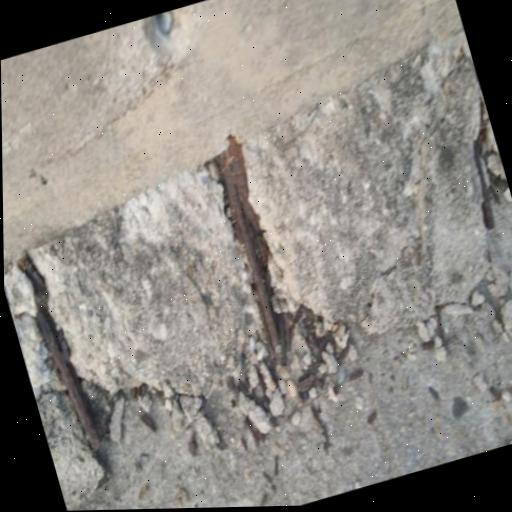exposed_rebar: (17, 253, 101, 452), (216, 136, 282, 365)
